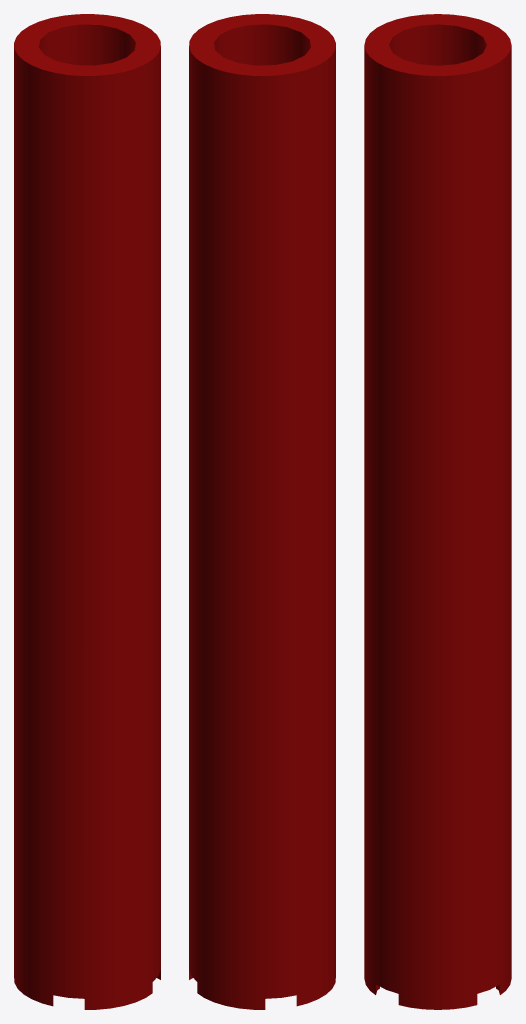
Rendered from SM_Actuator_2x2x15_Bottom.gltf.
3 views of the same model, side by side, from view 1: azimuth 30°, elevation 25°; view 2: azimuth 150°, elevation 25°; view 3: azimuth 270°, elevation 25° (orthographic).
Parts seen in each view (by area): view 1: SM_Actuator_2x2x15_Bottom; view 2: SM_Actuator_2x2x15_Bottom; view 3: SM_Actuator_2x2x15_Bottom.
Boxes of the visible parts, x1=… form: SM_Actuator_2x2x15_Bottom: x1=14, y1=14, x2=160, y2=1009; SM_Actuator_2x2x15_Bottom: x1=189, y1=14, x2=335, y2=1009; SM_Actuator_2x2x15_Bottom: x1=364, y1=14, x2=511, y2=1009.
Bounding box in the file's own units: 0.6 × 4.2 × 0.6.
